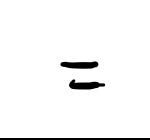eqv: (60, 60, 106, 90)
